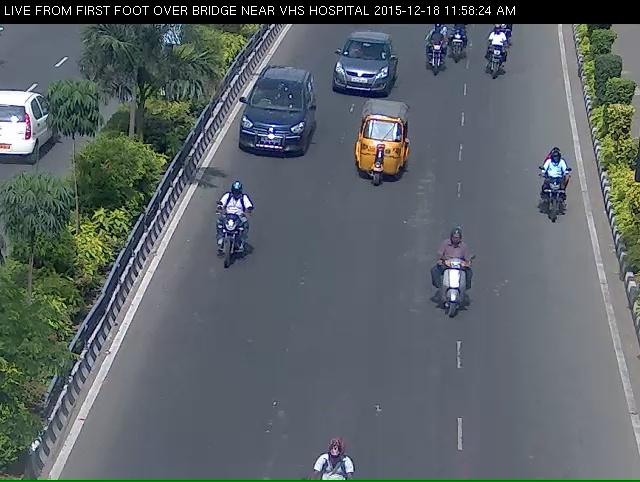Car: (236, 77, 300, 158), (350, 107, 405, 197), (326, 37, 389, 99)
Person: (206, 189, 246, 285), (434, 233, 468, 335), (539, 149, 566, 234), (422, 24, 440, 85), (485, 26, 503, 84)
